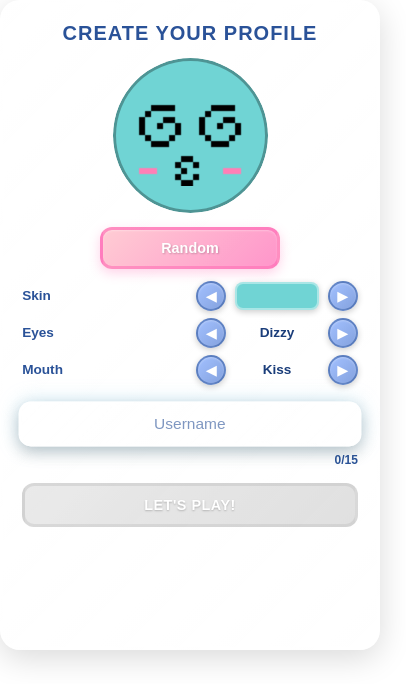
Test: ProfileMenu Component › Profile Submission › should show an error when updateProfile fails
In the field: (190, 424) 19,402 -> 361,447, type "TestUser"
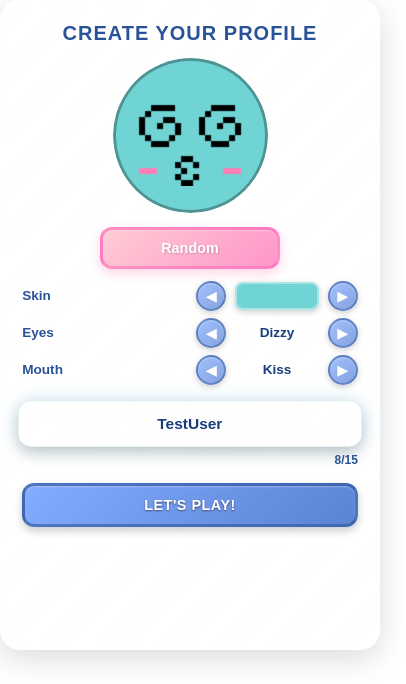
Click the button "Let's Play!": (190, 505) 22,483 -> 358,527
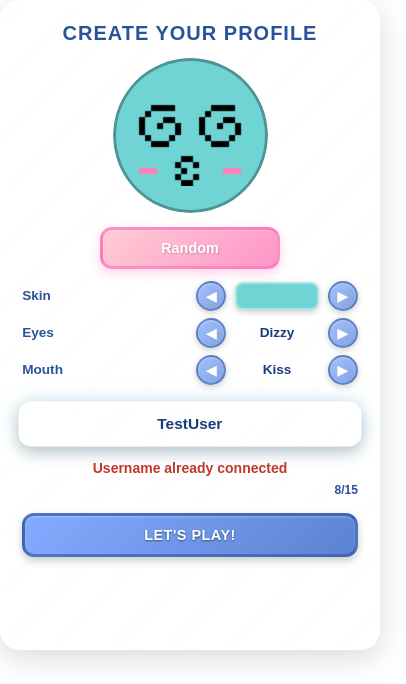
Now the text "Username already connected" is shown, box 93,460 -> 287,476
